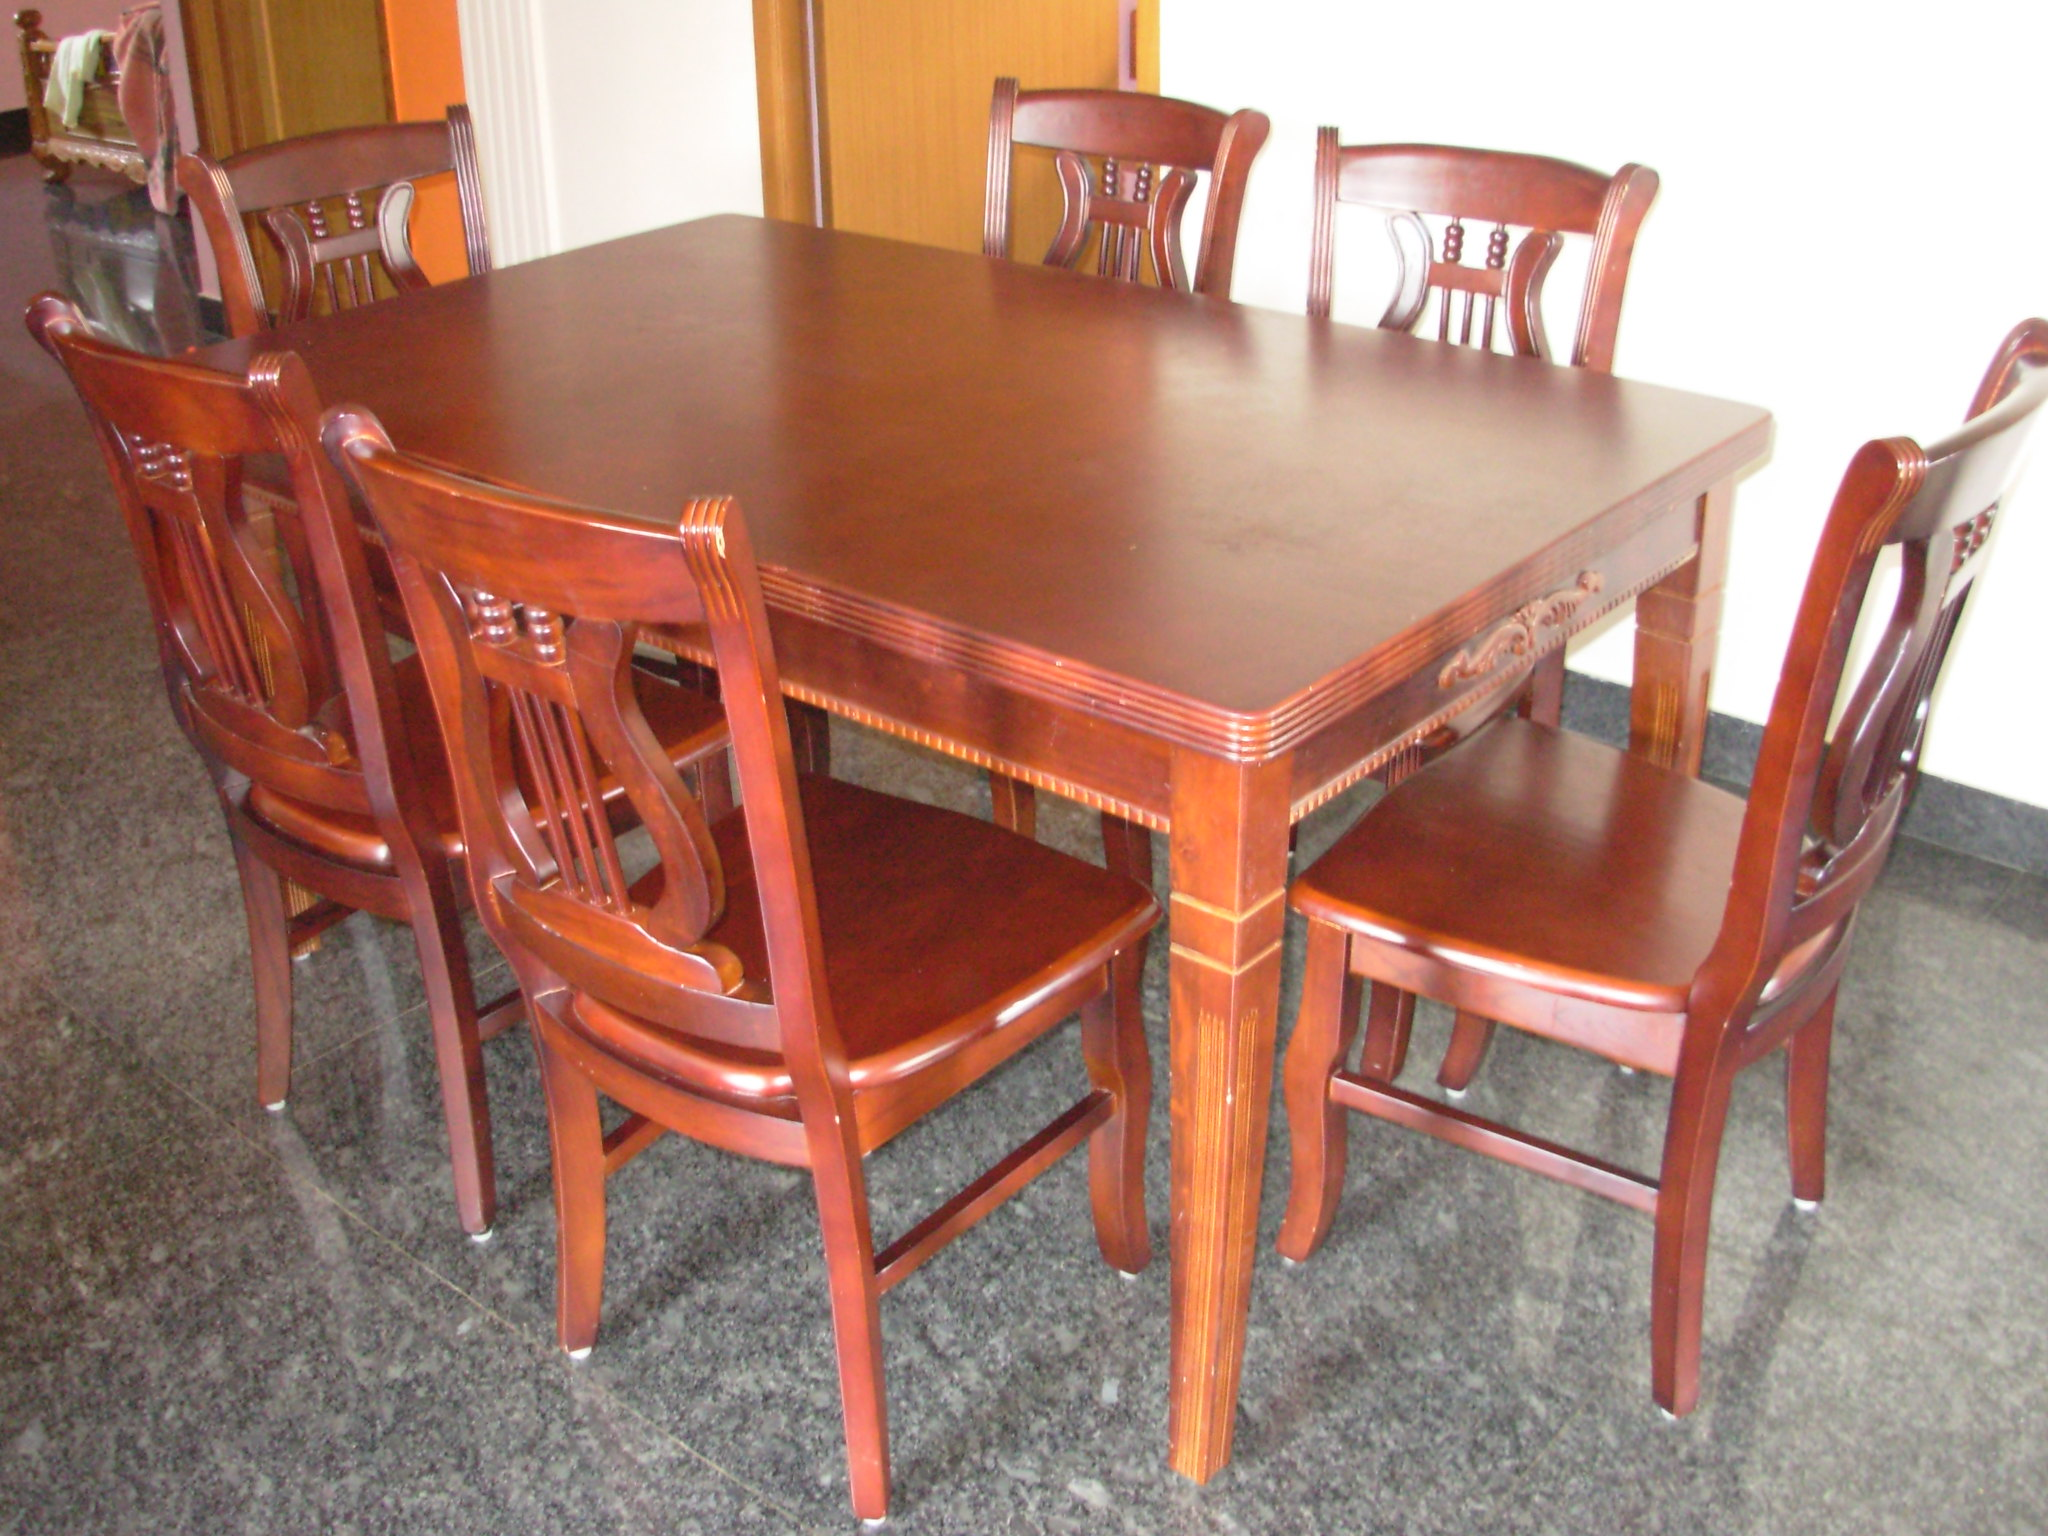chair: (1285, 307, 2033, 1397)
dining table: (164, 190, 1729, 1421)
